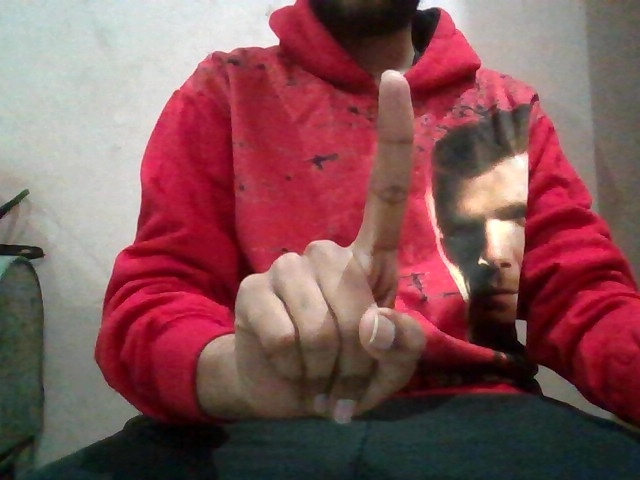D: (221, 64, 441, 435)
